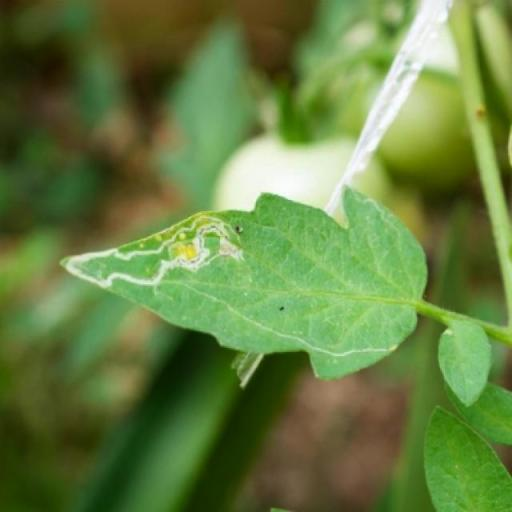disease_tomato: (64, 180, 430, 380)
